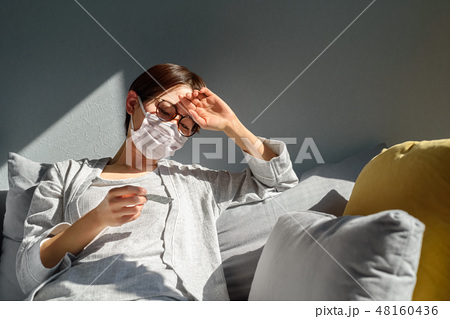mask: (134, 115, 188, 168)
